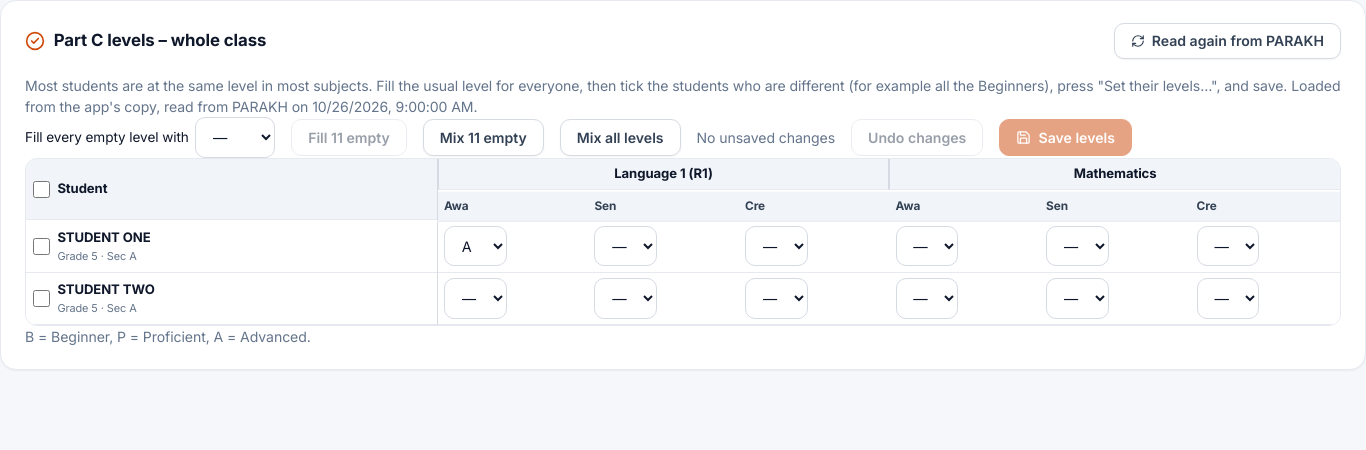
Test case: Part C levels grid › fills every empty level, keeps set ones, lets a few differ, and saves only changes
Expected: the dropdown named "STUDENT ONE, Language 1 (R1), Awareness" shows "A", [444,226,506,266]
Select "Proficient" in the dropdown labelled "Fill every empty level with" at (235, 138), box [195,117,275,158]
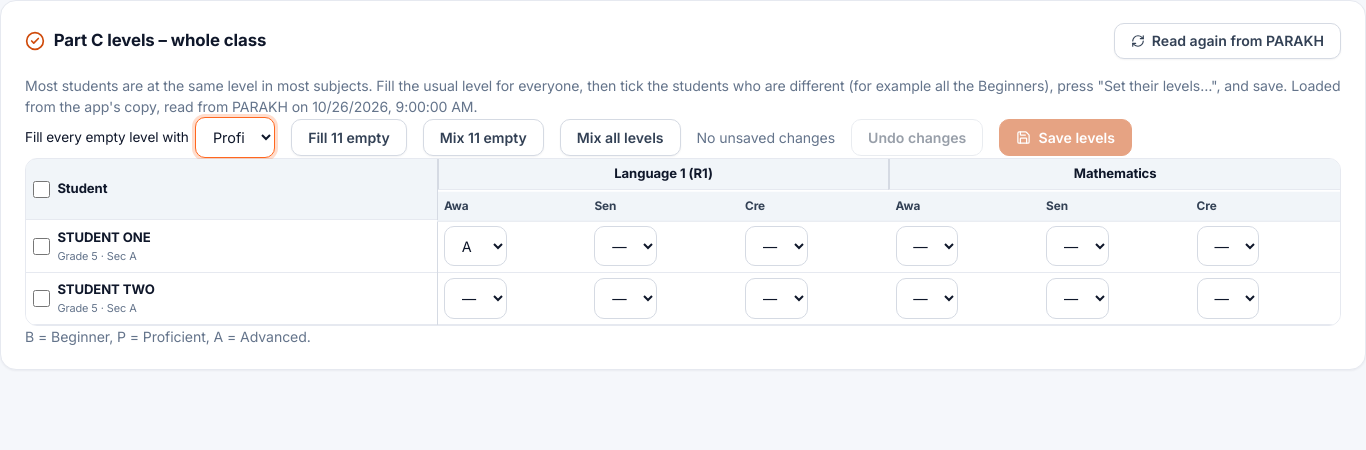
Click the button "Fill 11 empty" at (349, 138), box [291,119,407,156]
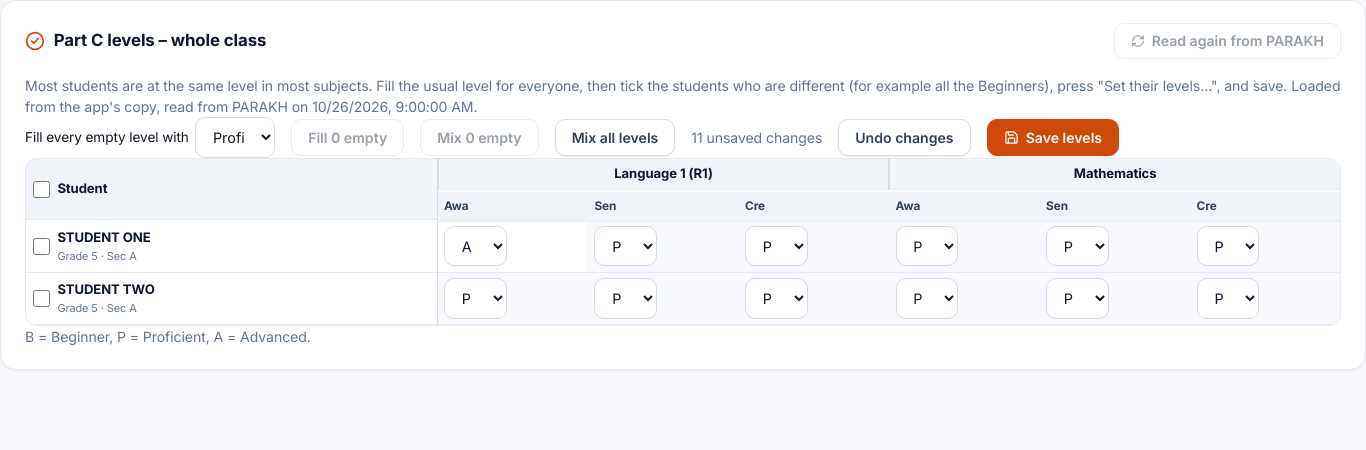
Expected: the dropdown named "STUDENT ONE, Language 1 (R1), Awareness" shows "A", [444,226,506,266]
Select "B" in the dropdown named "STUDENT TWO, Mathematics, Creativity" at (1228, 298), box [1197,278,1259,319]
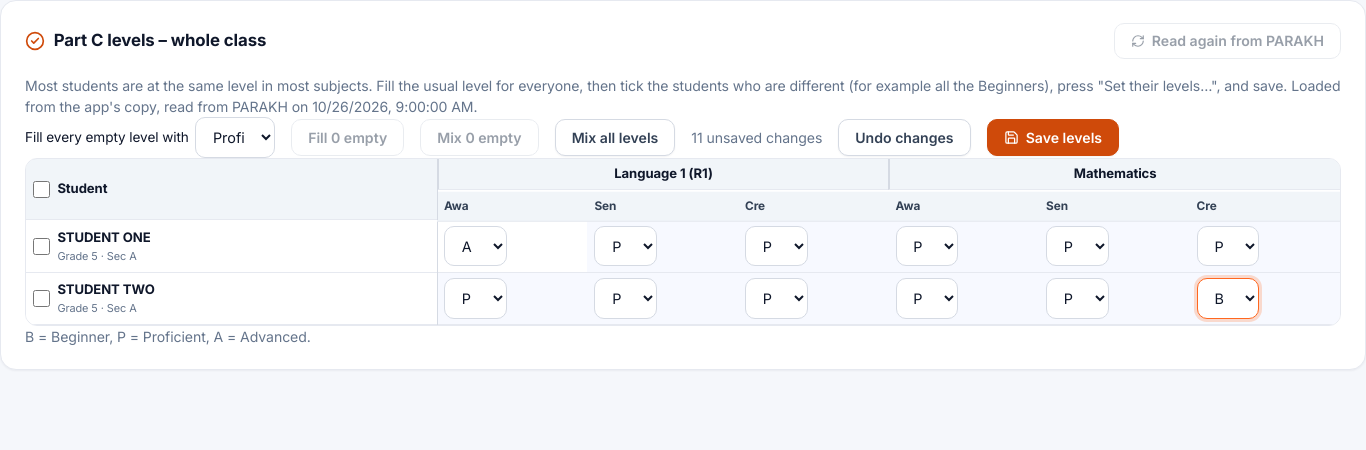
Expected: the text "11 unsaved changes" is shown, [691,127,822,148]
Click the button "Save levels" at (1053, 138), box [986,119,1119,156]
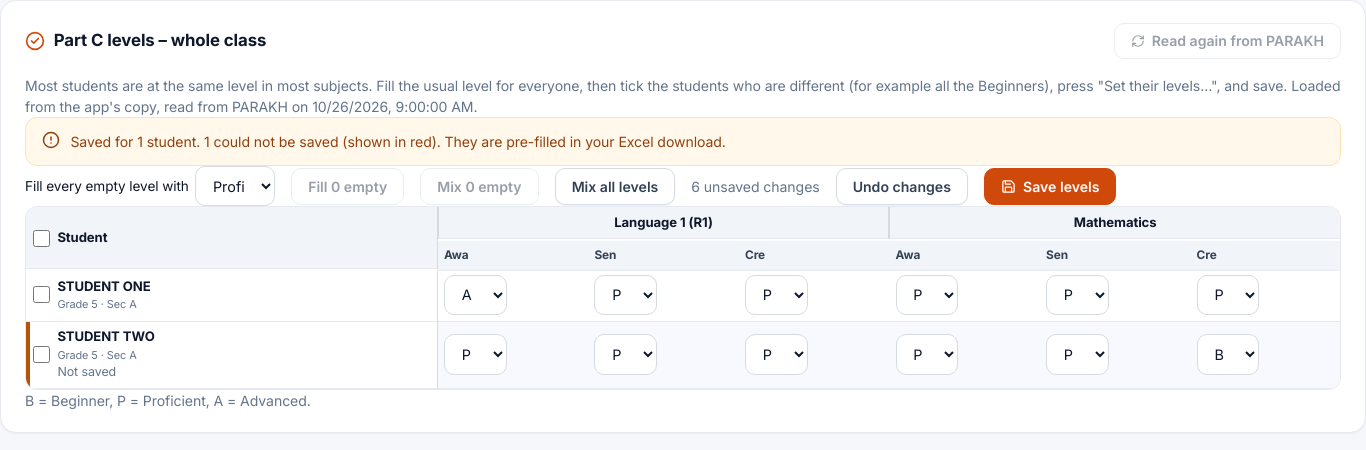
Expected: the text "Saved for 1 student. 1 could not be saved" is shown, [70,133,726,150]
Expected: the text "Not saved" is shown, [57,364,116,379]
Expected: the text "6 unsaved changes" is shown, [691,176,820,197]
